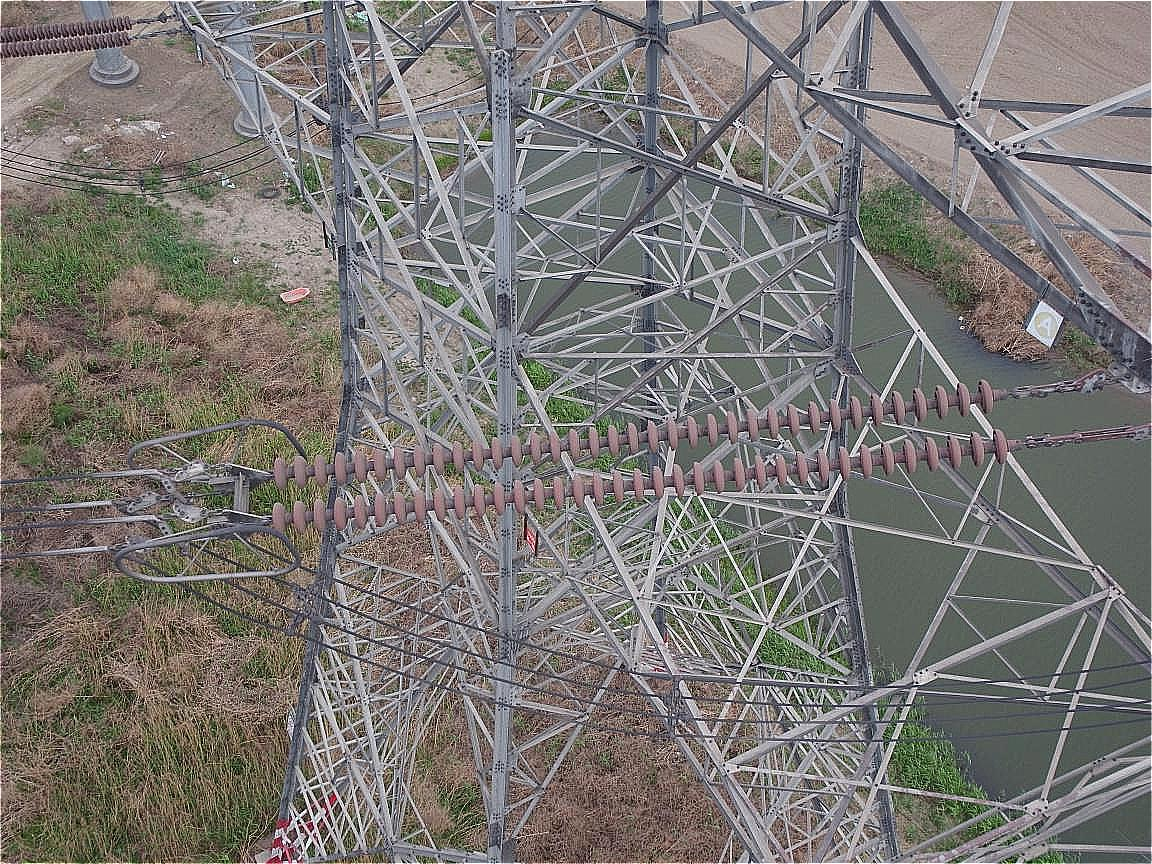insultor1: (247, 369, 1035, 543)
